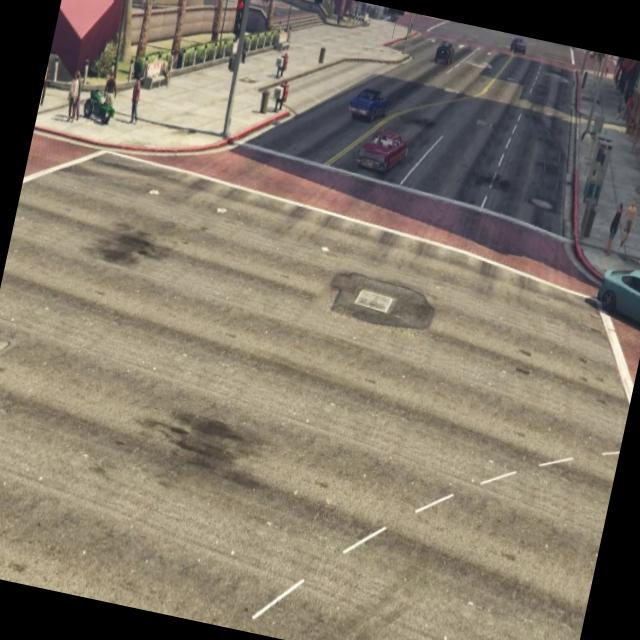Red-Signal: (221, 0, 253, 44), (306, 0, 328, 10)
